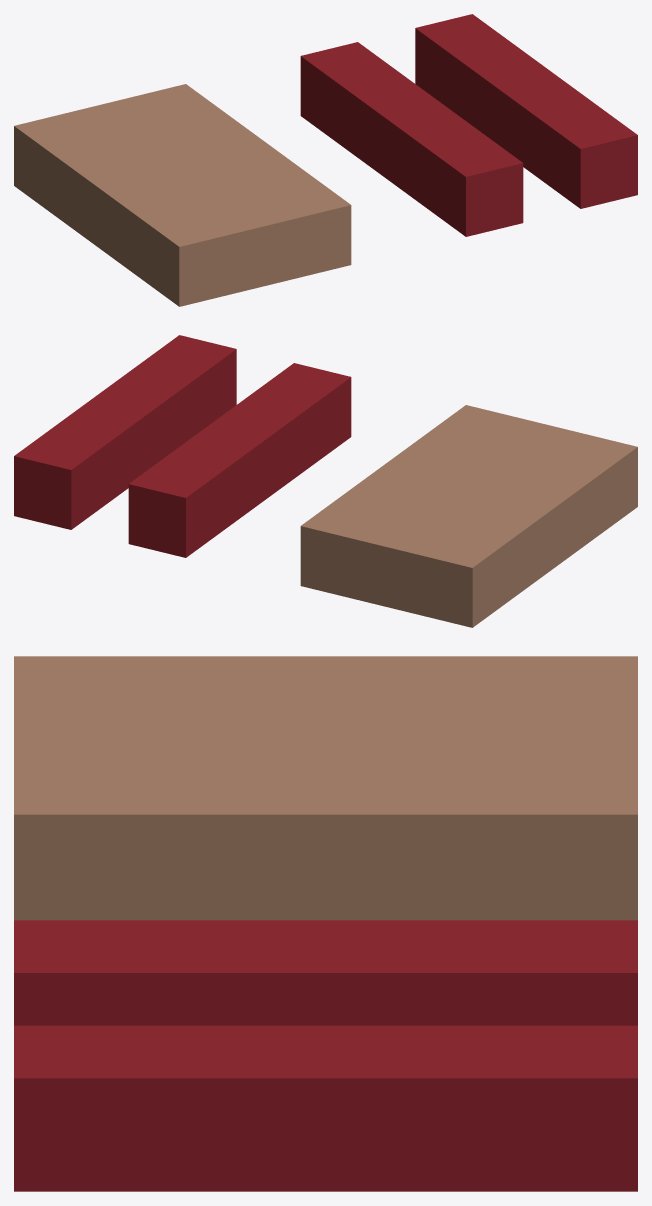
Rendered from Picnic_Set-9.obj.
The picture shows the model from 3 angles, top to bottom: view 1: azimuth 30°, elevation 25°; view 2: azimuth 150°, elevation 25°; view 3: azimuth 270°, elevation 25°; orthographic projection. The views are drawn at different scales.
Size of the model in its own units: 0.8 by 0.1 by 0.5.
1 material, 1 textured.
